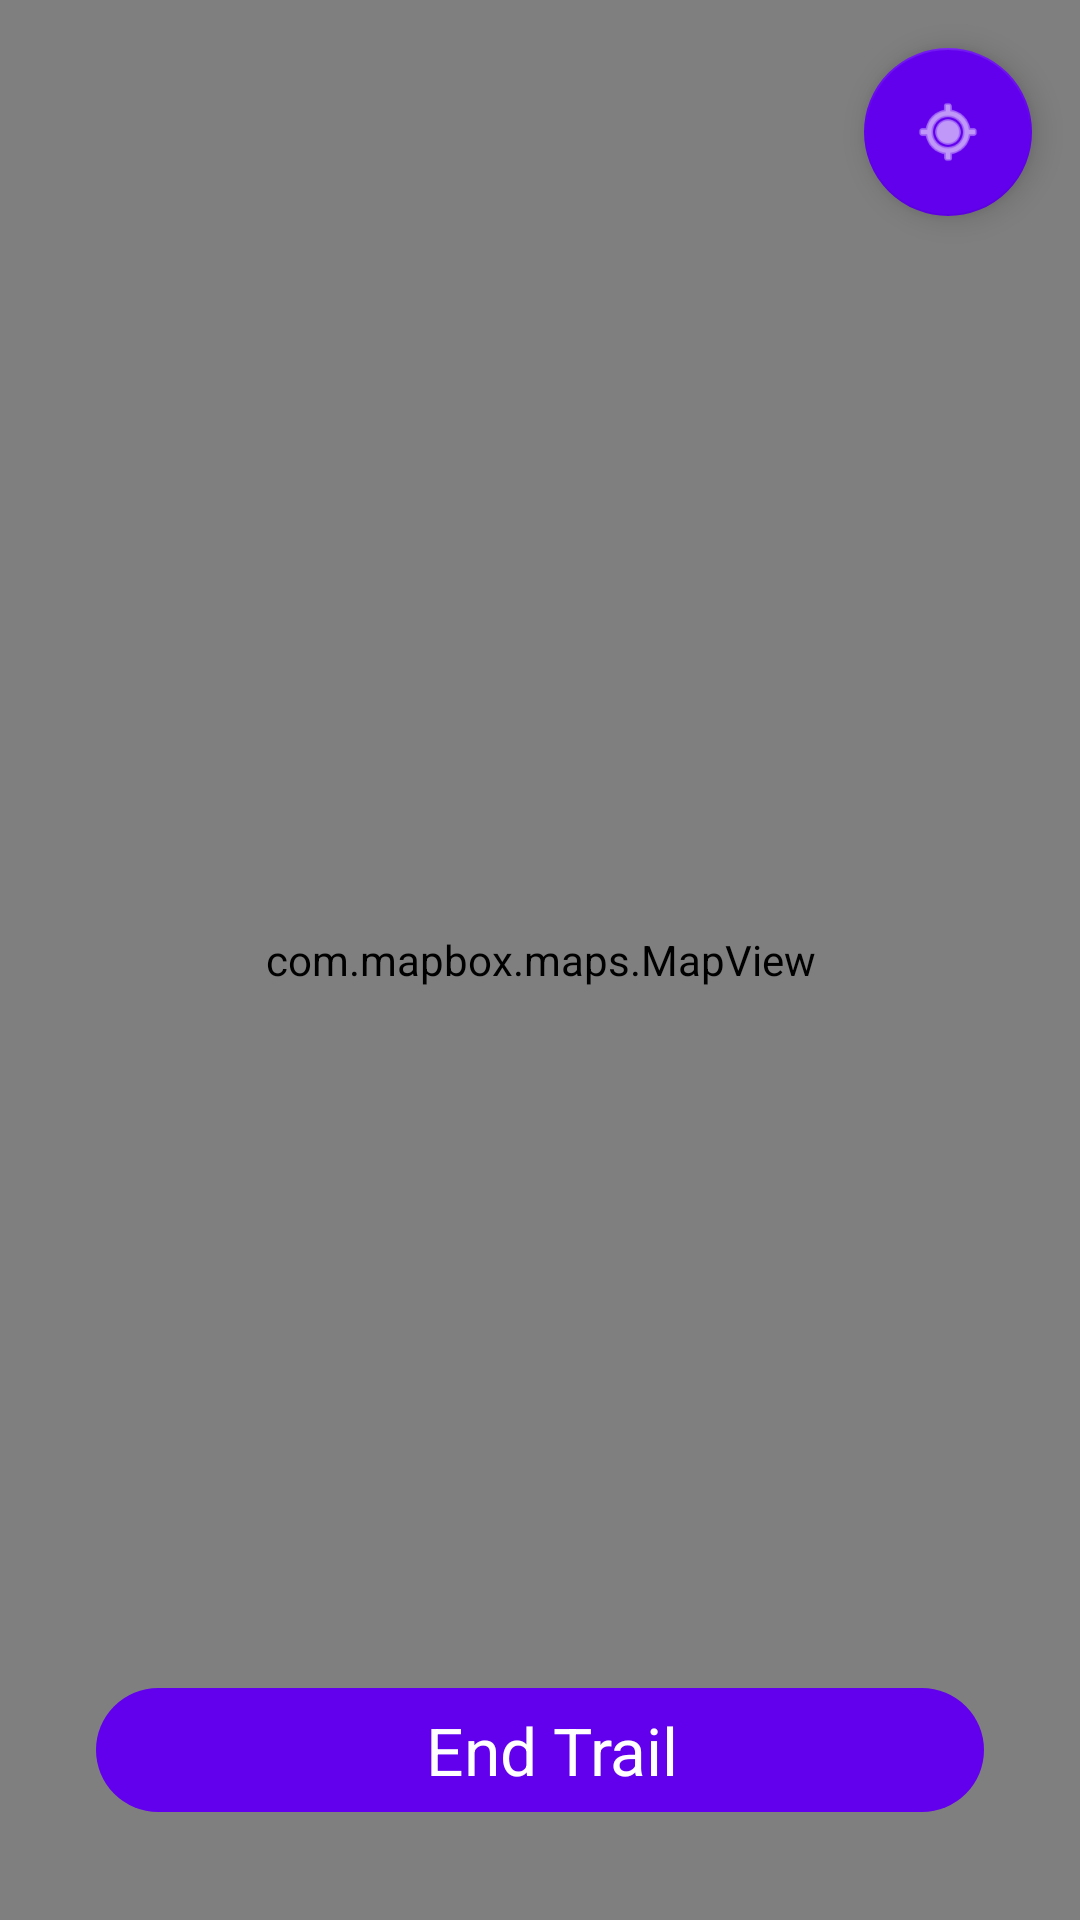

Screen size 1080px x 1920px. Icon name, then its center in pixels as point (x, y):
Center on my location: point (948, 132)
